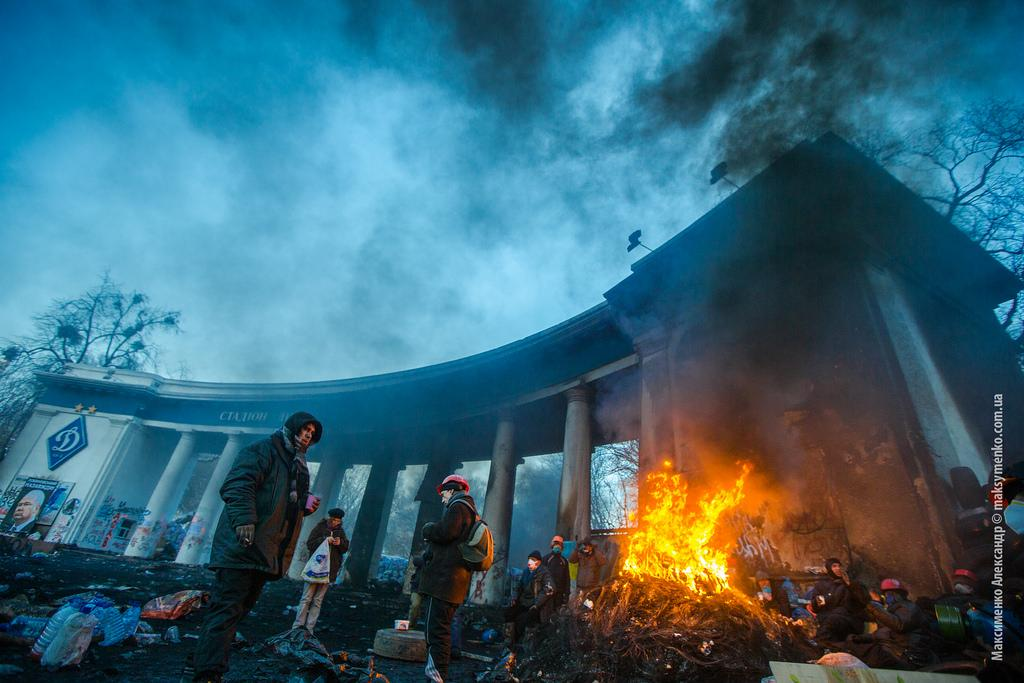fire: (642, 497, 733, 582)
